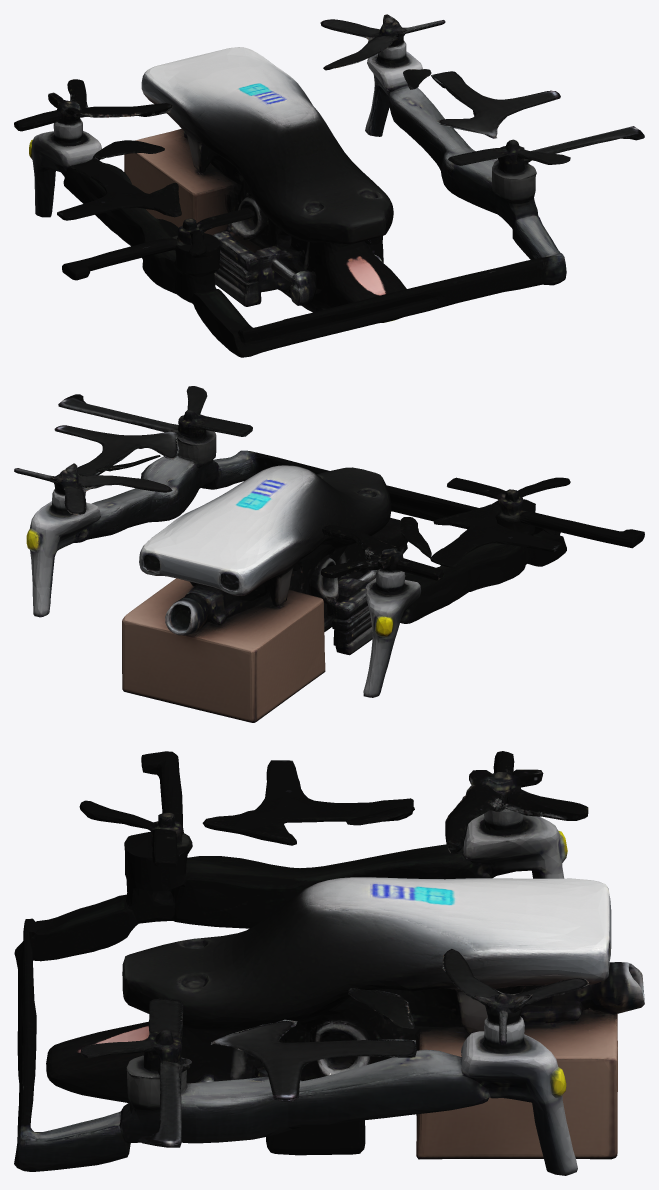
Rendered from drone.glb.
3 renders of one model, top to bottom at view 1: azimuth 30°, elevation 25°; view 2: azimuth 150°, elevation 25°; view 3: azimuth 270°, elevation 25°, orthographic. The views are drawn at different scales.
Parts seen in each view (by area): view 1: world; view 2: world; view 3: world.
Boxes of the visible parts, x1,y1,x2,y2 form: world: (14,14,644,357); world: (14,386,644,722); world: (14,751,644,1175).
Size of the model in its own units: 1 by 0.2827 by 0.6869.
1 material, 1 textured.
